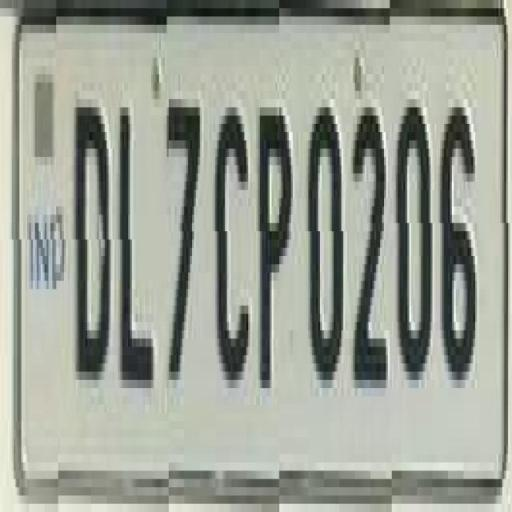number plate: (13, 0, 512, 512)
